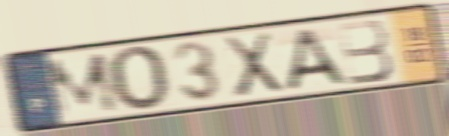3: (172, 39, 222, 106)
A: (283, 26, 350, 94)
B: (335, 17, 397, 88)
M: (43, 49, 123, 121)
O: (105, 44, 171, 114)
X: (220, 29, 286, 101)
